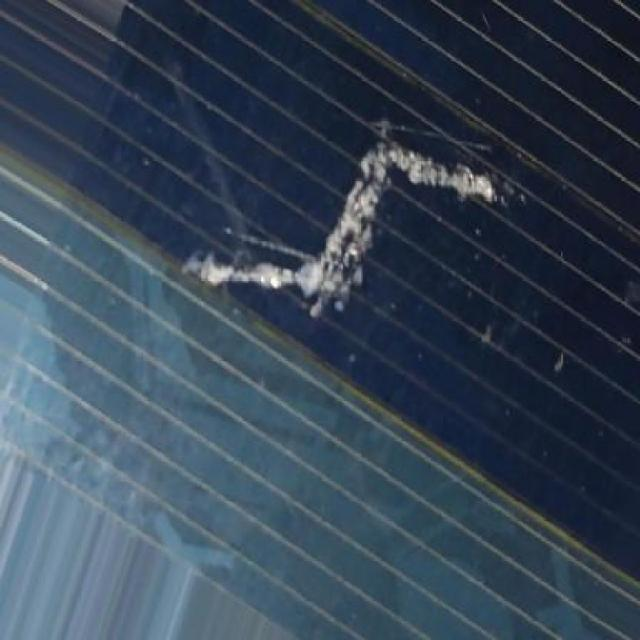faulty: (172, 113, 543, 332)
